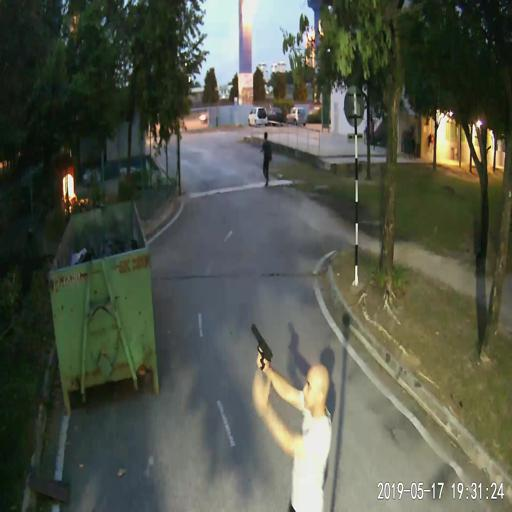pistol: (250, 322, 272, 374)
